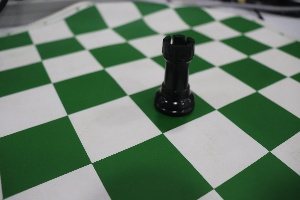black_rook: (147, 13, 201, 124)
